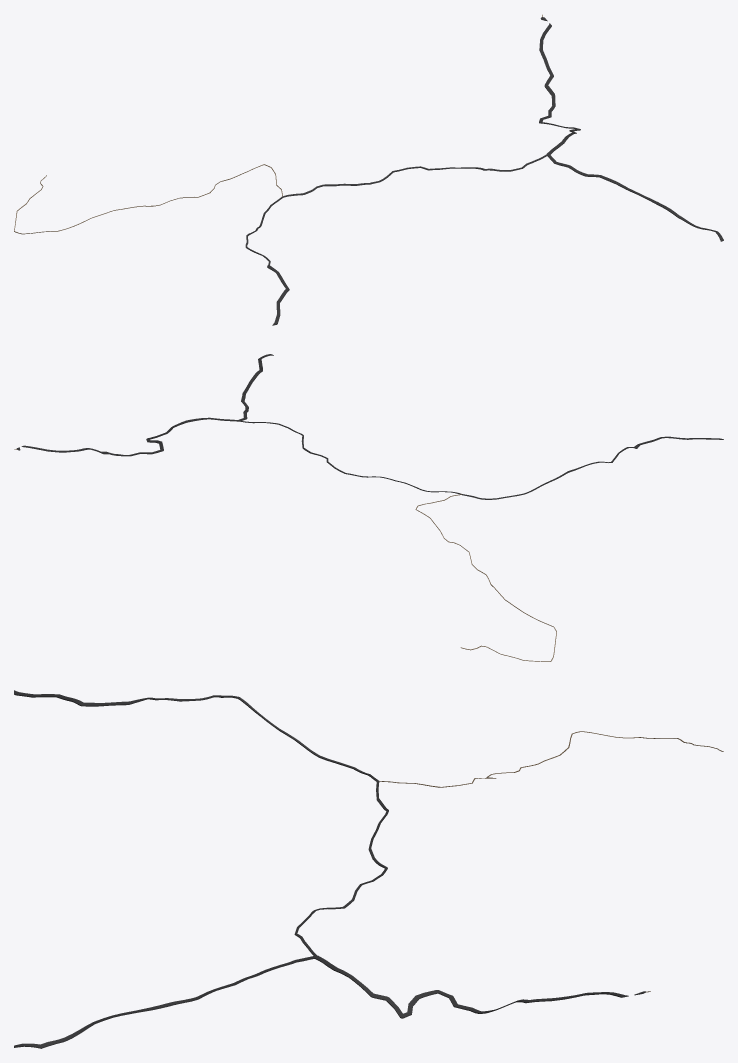
3 renders of one model, top to bottom at view 1: azimuth 30°, elevation 25°; view 2: azimuth 150°, elevation 25°; view 3: azimuth 270°, elevation 25°, orthographic. The views are drawn at different scales.
Bounding box in the file's own units: 1117 × 171 × 888.
